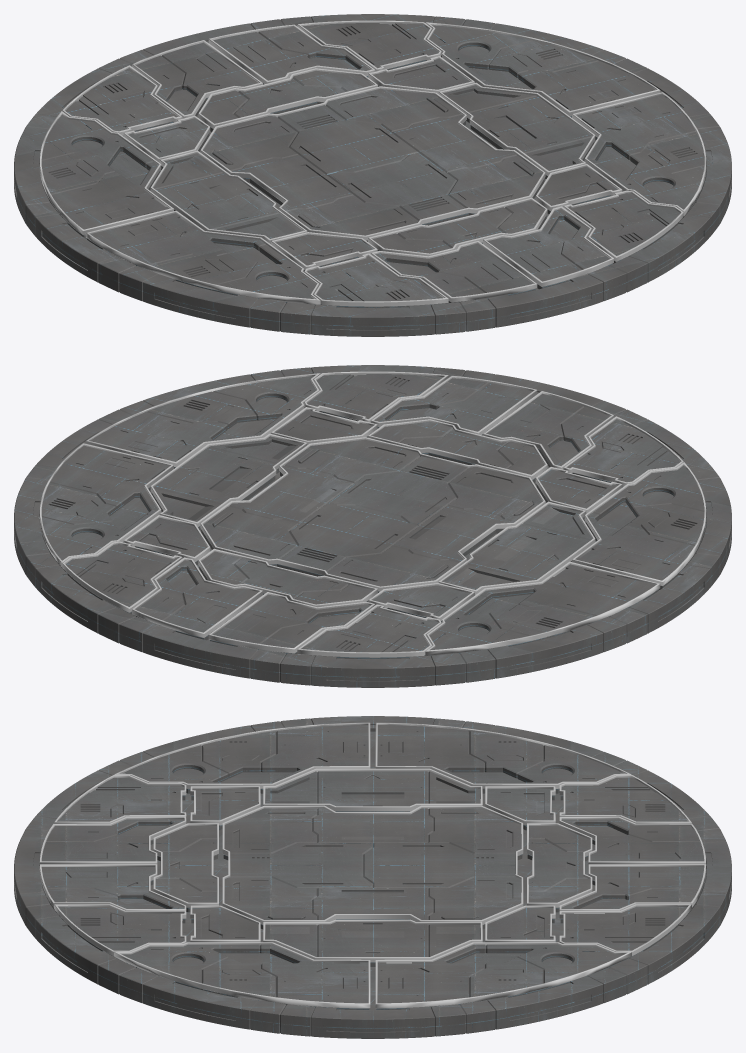
Rendered from platform(1).fbx.
3 renders of one model, top to bottom at view 1: azimuth 30°, elevation 25°; view 2: azimuth 150°, elevation 25°; view 3: azimuth 270°, elevation 25°, orthographic.
Parts seen in each view (by area): view 1: G_01, G_05, G_02; view 2: G_01, G_05, G_02; view 3: G_01, G_05, G_02, G_03.
Boxes of the visible parts, x1,y1,x2,y2 form: G_01: (41, 23, 704, 307); G_05: (14, 14, 731, 336); G_02: (39, 20, 706, 306); G_01: (41, 374, 704, 658); G_05: (14, 365, 731, 687); G_02: (39, 371, 706, 657); G_01: (41, 725, 704, 1009); G_05: (14, 716, 731, 1038); G_02: (39, 722, 706, 1008); G_03: (39, 731, 706, 1009).
Bounding box in the file's own units: 2.11 × 0.0782 × 2.11.
Materials: 2 (1 with a texture image).
